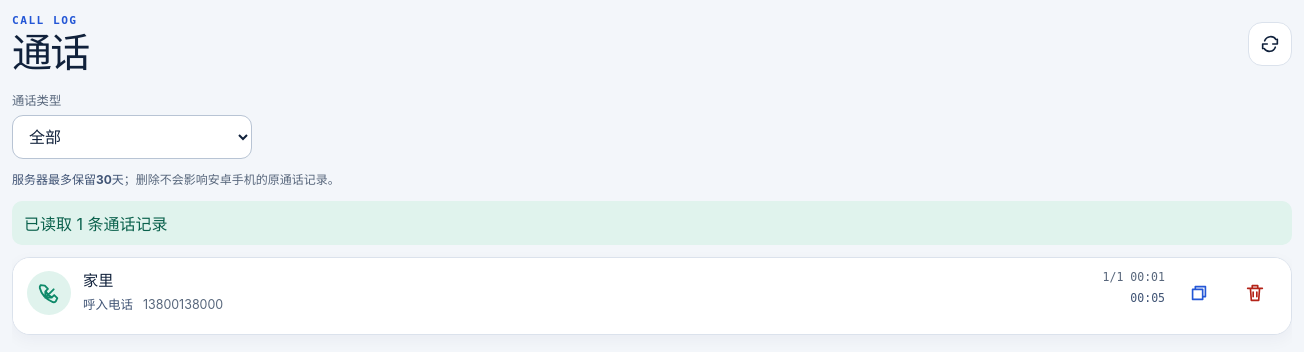
Scenario: CallsView › 复制真实电话号码并播报成功或失败
Click the button named "复制电话号码 13800138000" at (1199, 293), box 1177,271 -> 1221,315
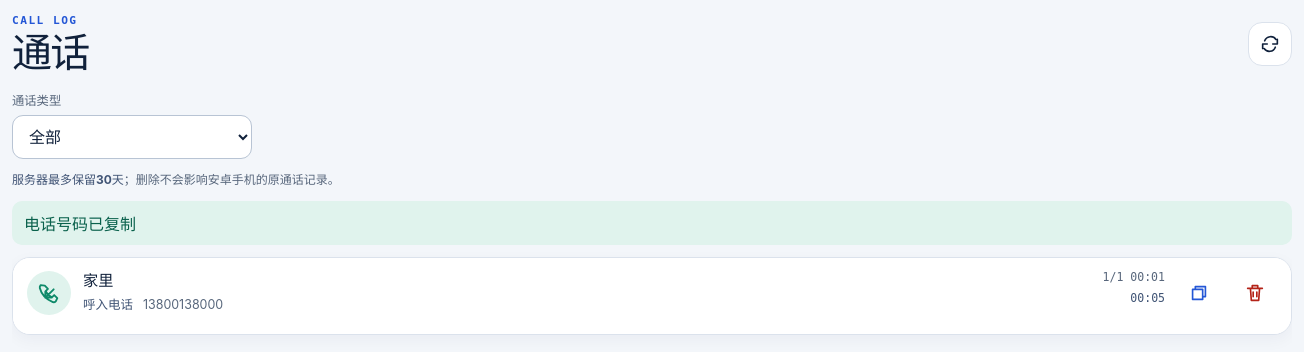
Expected: the text "电话号码已复制" is shown, 12,201 -> 1292,245
Click the button named "复制电话号码 13800138000" at (1199, 293), box 1177,271 -> 1221,315
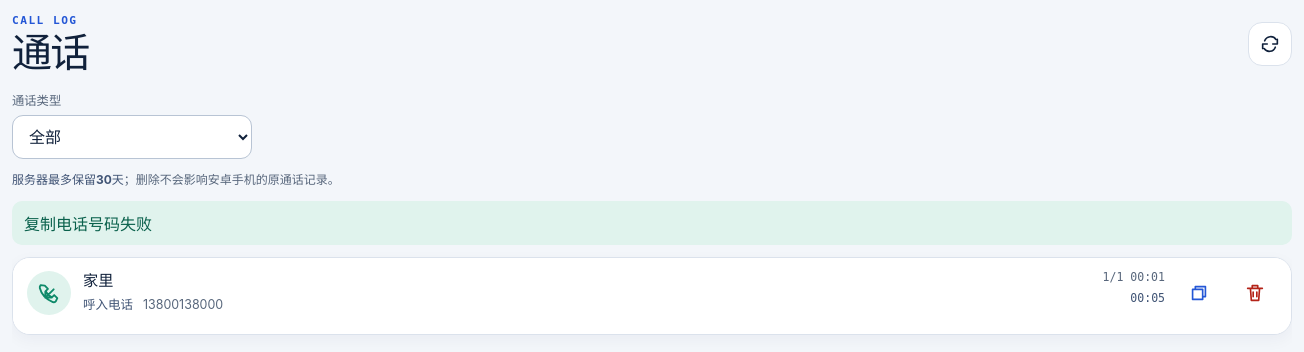
Expected: the text "复制电话号码失败" is shown, 12,201 -> 1292,245
